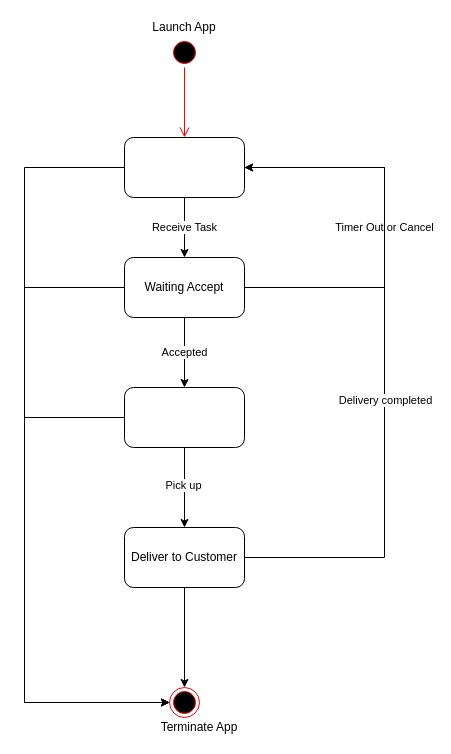
The diagram is 451 pixels wide and 754 high, and some of its shapes have lost their labels. The centre of each missing label's shape, as x and y in pixels:
Go to Store: (x=184, y=417)
Initialize: (x=184, y=167)
